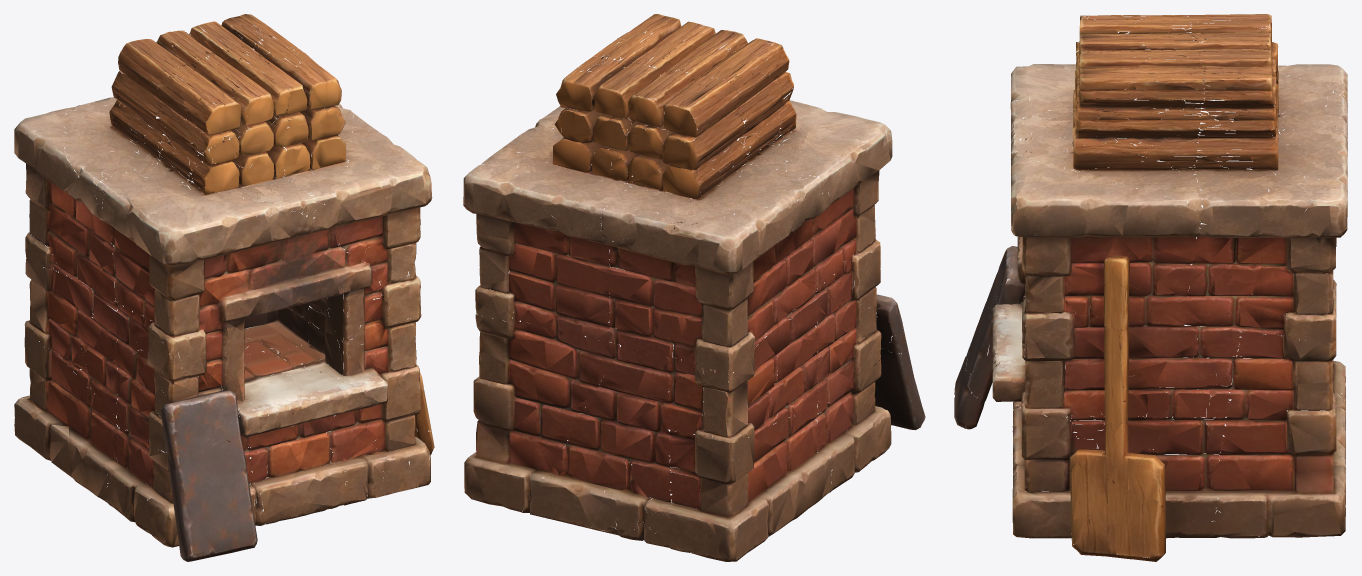
Rendered from oven.glb.
3 views of the same model, side by side, from view 1: azimuth 30°, elevation 25°; view 2: azimuth 150°, elevation 25°; view 3: azimuth 270°, elevation 25° (orthographic). The views are drawn at different scales.
Visible parts, largest first — view 1: tripo_node_66556d5e-cd3c-4429-b039-f04b11f46f4f; view 2: tripo_node_66556d5e-cd3c-4429-b039-f04b11f46f4f; view 3: tripo_node_66556d5e-cd3c-4429-b039-f04b11f46f4f.
Boxes of the visible parts, box(x1,y1,x2,y2) form: tripo_node_66556d5e-cd3c-4429-b039-f04b11f46f4f: box(14, 14, 434, 561); tripo_node_66556d5e-cd3c-4429-b039-f04b11f46f4f: box(463, 14, 925, 561); tripo_node_66556d5e-cd3c-4429-b039-f04b11f46f4f: box(954, 14, 1347, 561).
Size of the model in its own units: 0.8128 by 0.9798 by 0.8107.
1 material, 1 textured.
